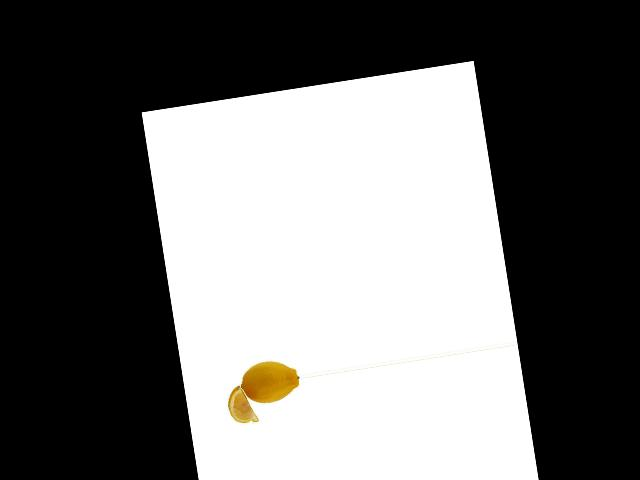lemon: (235, 354, 303, 409)
